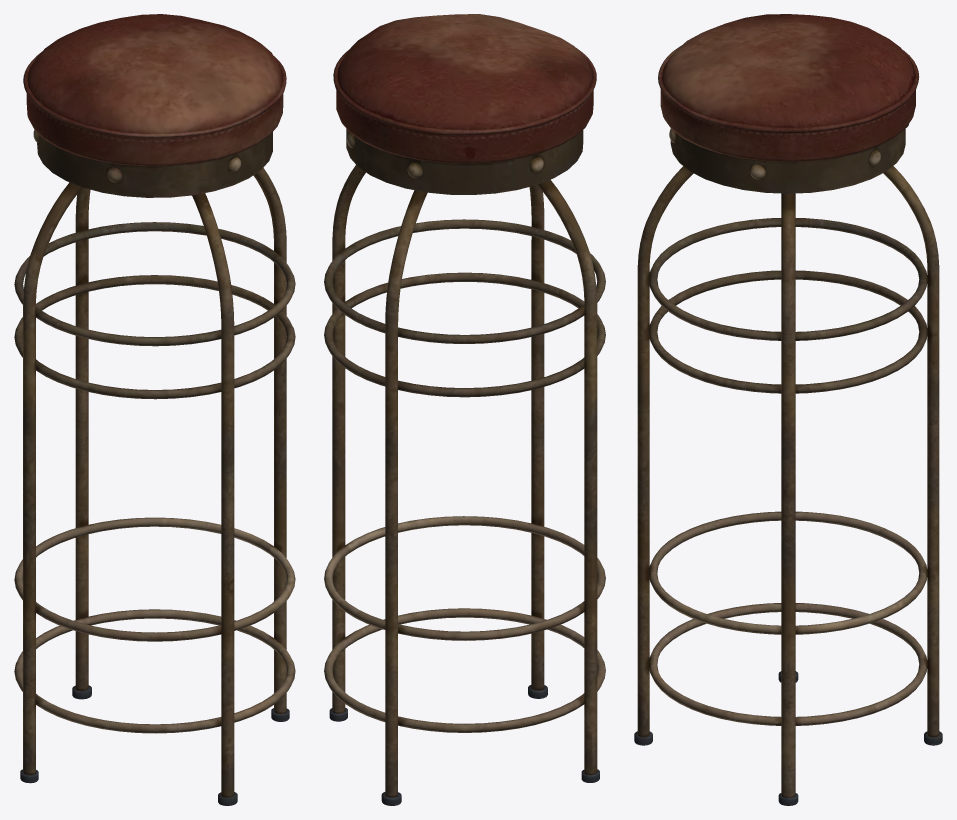
The model's file is ph-metal_stool_01.glb.
3 views of the same model, side by side, from view 1: azimuth 30°, elevation 25°; view 2: azimuth 150°, elevation 25°; view 3: azimuth 270°, elevation 25° (orthographic).
Parts seen in each view (by area): view 1: metal_stool_01; view 2: metal_stool_01; view 3: metal_stool_01.
Boxes of the visible parts, x1=… form: metal_stool_01: x1=14, y1=14, x2=295, y2=805; metal_stool_01: x1=324, y1=14, x2=605, y2=805; metal_stool_01: x1=634, y1=14, x2=942, y2=805.
Bounding box in the file's own units: 0.3987 × 1 × 0.4016.
1 material, 1 textured.
